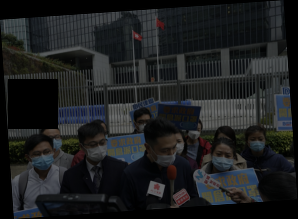with_mask: (153, 142, 178, 169), (30, 147, 55, 171), (85, 137, 108, 161), (211, 148, 234, 172), (44, 133, 62, 155), (248, 134, 266, 152), (136, 117, 151, 133), (188, 126, 201, 141), (175, 137, 185, 155)
